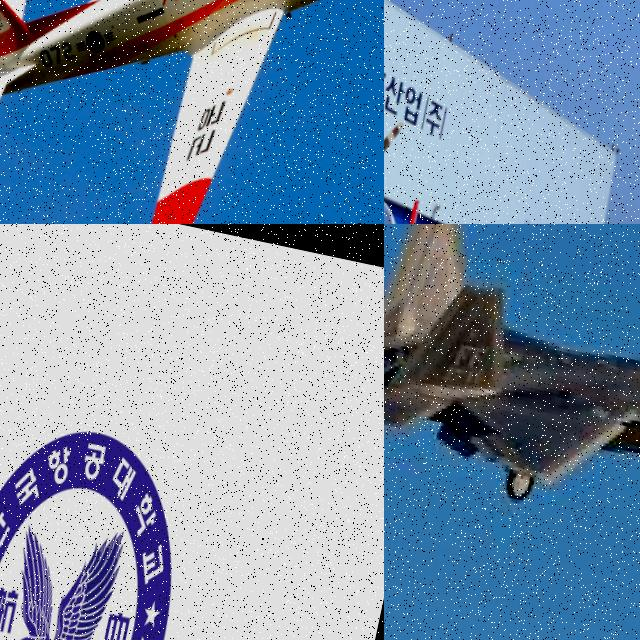F22: (384, 224, 640, 562)
KAU_Marker: (0, 409, 203, 640)
KT-1: (0, 0, 384, 224), (384, 46, 640, 224)
